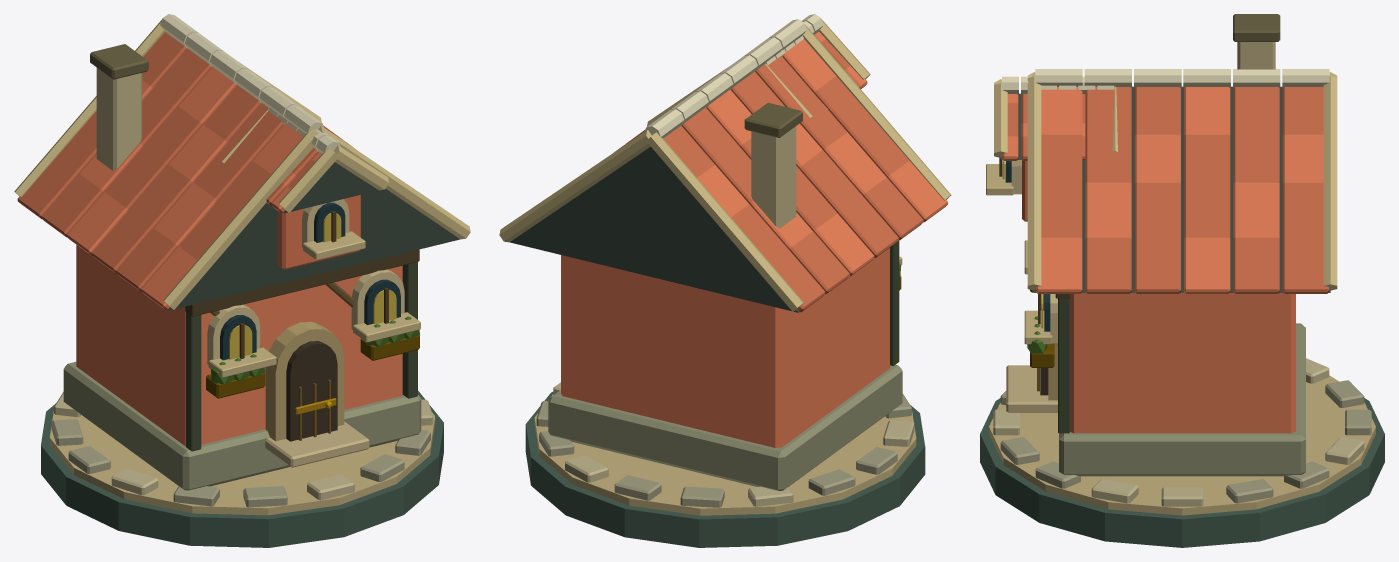
Rendered from village_dormer.glb.
The picture shows the model from 3 angles, left to right: view 1: azimuth 30°, elevation 25°; view 2: azimuth 150°, elevation 25°; view 3: azimuth 270°, elevation 25°; orthographic projection.
Parts seen in each view (by area): view 1: village_dormer_static, village_dormer_owner; view 2: village_dormer_static, village_dormer_owner; view 3: village_dormer_owner, village_dormer_static.
Boxes of the visible parts, left/top/right/bottom form: village_dormer_static: left=14, top=14, right=470, bottom=547; village_dormer_owner: left=17, top=32, right=403, bottom=446; village_dormer_static: left=499, top=14, right=951, bottom=547; village_dormer_owner: left=561, top=32, right=947, bottom=447; village_dormer_owner: left=1002, top=87, right=1328, bottom=433; village_dormer_static: left=980, top=14, right=1384, bottom=547.
Bounding box in the file's own units: 0.41 × 0.4455 × 0.41.
